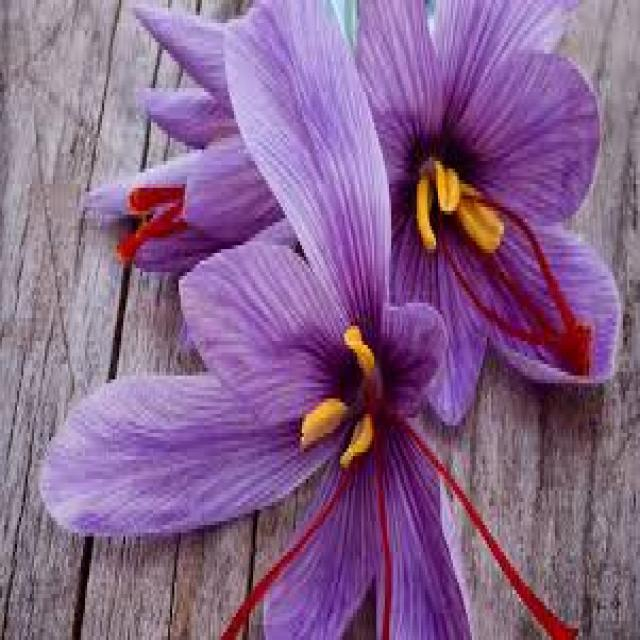Flower: (20, 0, 448, 640), (361, 0, 623, 454)
stigma: (427, 438, 581, 638), (442, 234, 594, 374), (226, 469, 350, 640), (509, 206, 581, 320), (360, 476, 401, 632), (119, 208, 182, 259), (121, 184, 187, 209)
